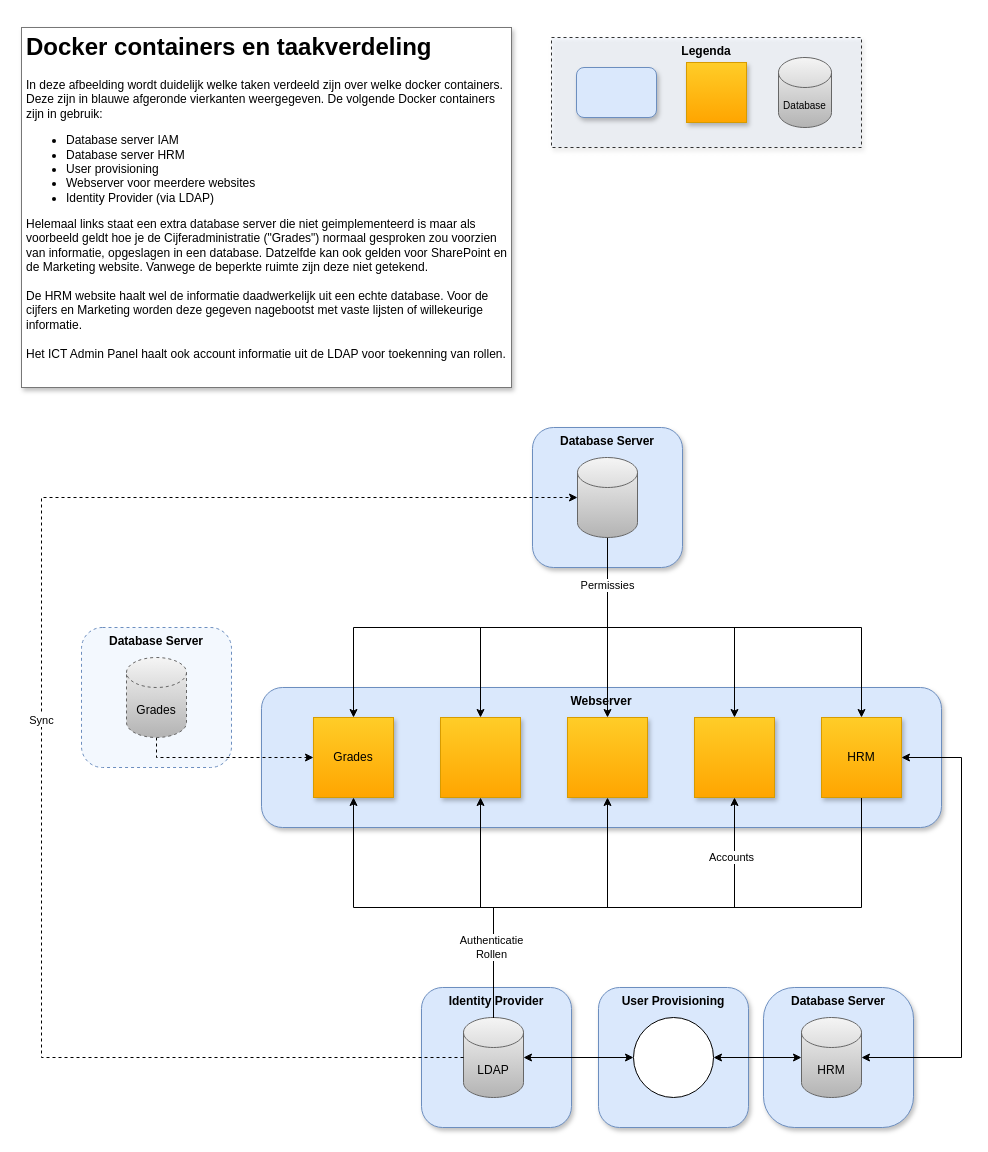
Image size: 988x1152. Some labels were removed from this diagram. Here are the shapes that lost their labels. From the top down, the centre of each, then its label:
At pixel 617 93: "Docker container".
At pixel 717 94: "Website".
At pixel 607 497: "IAM".
At pixel 481 758: "Marketing".
At pixel 608 758: "SharePoint".
At pixel 735 758: "Admin".
At pixel 673 1057: "Sync (python)".
